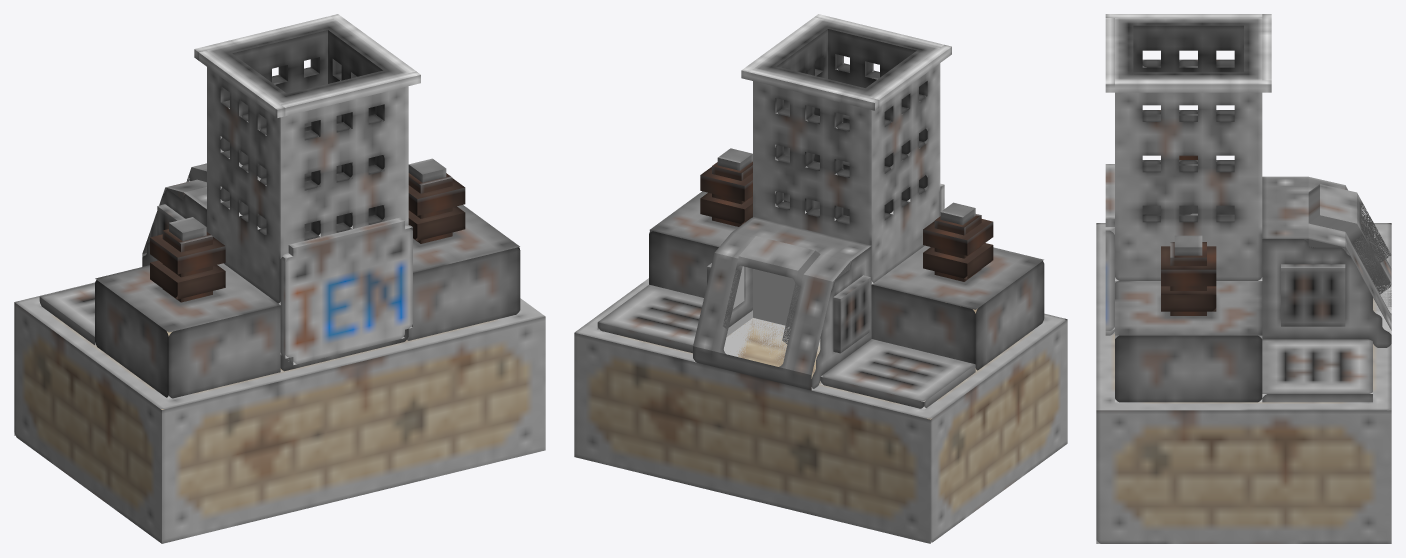
The model's file is coal_burner.obj.
3 views of the same model, side by side, from view 1: azimuth 30°, elevation 25°; view 2: azimuth 150°, elevation 25°; view 3: azimuth 270°, elevation 25° (orthographic). The views are drawn at different scales.
Parts seen in each view (by area): view 1: Insulation_3; view 2: Insulation_3; view 3: Insulation_3.
Boxes of the visible parts, left/top/right/bottom form: Insulation_3: left=14, top=14, right=545, bottom=543; Insulation_3: left=574, top=14, right=1067, bottom=543; Insulation_3: left=1096, top=14, right=1391, bottom=543.
Bounding box in the file's own units: 3 × 3 × 2.
Materials: 2 (1 with a texture image).
